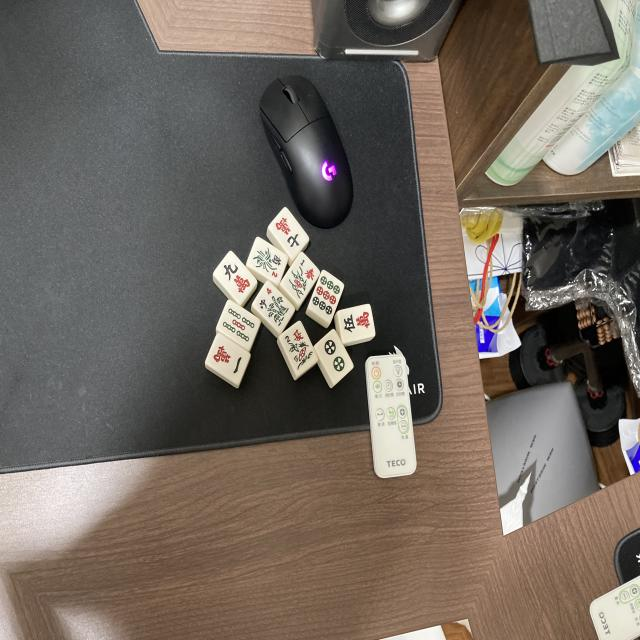f2: (248, 240, 290, 287)
f4: (254, 283, 297, 335)
ff1: (279, 253, 320, 306)
ff2: (278, 322, 318, 378)
m1: (203, 333, 251, 385)
m5: (336, 304, 376, 342)
m7: (266, 206, 309, 258)
m9: (213, 252, 258, 304)
s5: (218, 302, 261, 349)
t2: (313, 330, 354, 387)
t9: (308, 270, 346, 322)
